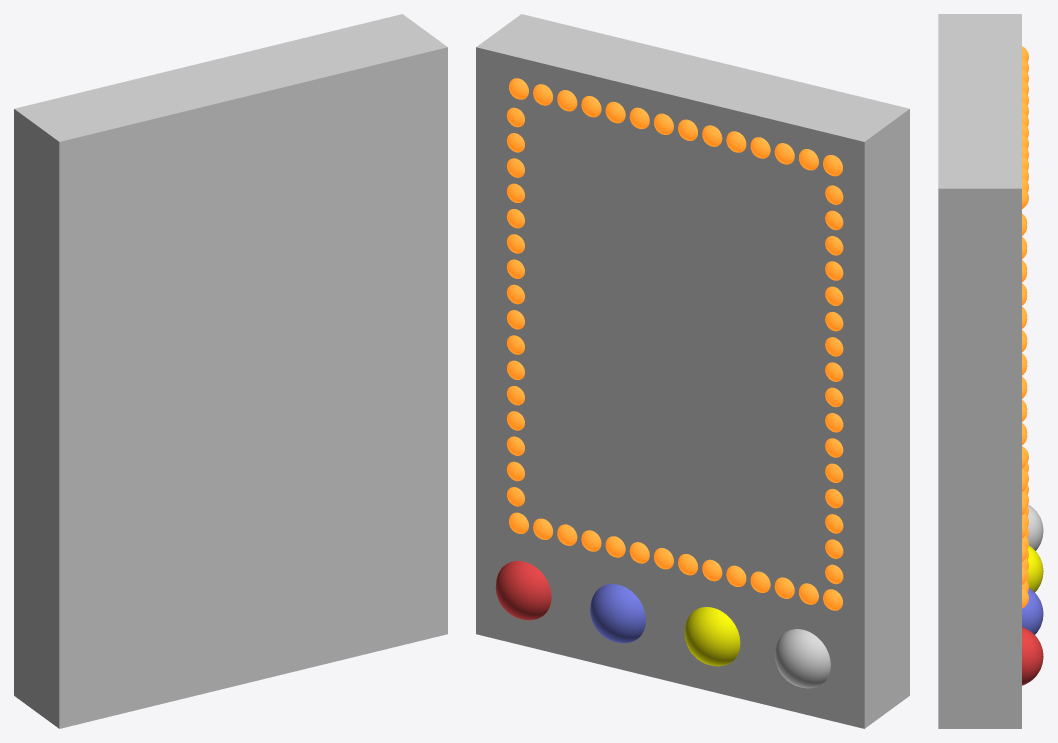
The model's file is SensoryInteractiveLight.fbx.
3 renders of one model, left to right at view 1: azimuth 30°, elevation 25°; view 2: azimuth 150°, elevation 25°; view 3: azimuth 270°, elevation 25°, orthographic. The views are drawn at different scales.
Parts seen in each view (by area): view 1: InteractiveLightFixture; view 2: InteractiveLightFixture, InteractiveLights, InteractiveLights2, InteractiveButton1, InteractiveButton3, InteractiveButton4, InteractiveButton2; view 3: InteractiveLightFixture, InteractiveLights, InteractiveLights2, InteractiveButton1, InteractiveButton2, InteractiveButton3, InteractiveButton4.
Boxes of the visible parts, bbox=[...] form: InteractiveLightFixture: bbox=[14, 14, 447, 728]; InteractiveLightFixture: bbox=[476, 14, 909, 728]; InteractiveLights: bbox=[509, 78, 842, 610]; InteractiveLights2: bbox=[506, 107, 843, 584]; InteractiveButton1: bbox=[495, 560, 551, 620]; InteractiveButton3: bbox=[684, 607, 740, 666]; InteractiveButton4: bbox=[775, 629, 830, 688]; InteractiveButton2: bbox=[590, 584, 645, 643]; InteractiveLightFixture: bbox=[938, 14, 1021, 728]; InteractiveLights: bbox=[1022, 46, 1028, 608]; InteractiveLights2: bbox=[1022, 208, 1027, 584]; InteractiveButton1: bbox=[1022, 627, 1043, 685]; InteractiveButton2: bbox=[1022, 588, 1043, 634]; InteractiveButton3: bbox=[1027, 545, 1043, 592]; InteractiveButton4: bbox=[1027, 504, 1043, 550].
Bounding box in the file's own units: 200 × 289 × 50.89.
